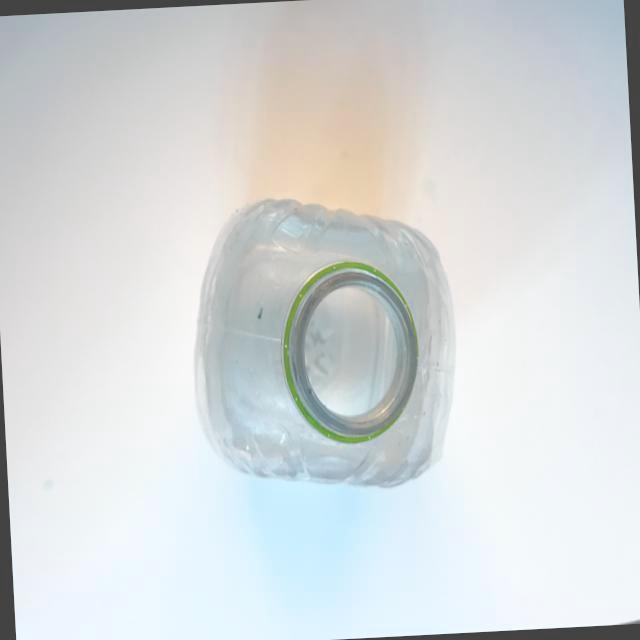plastic: (162, 152, 487, 544)
